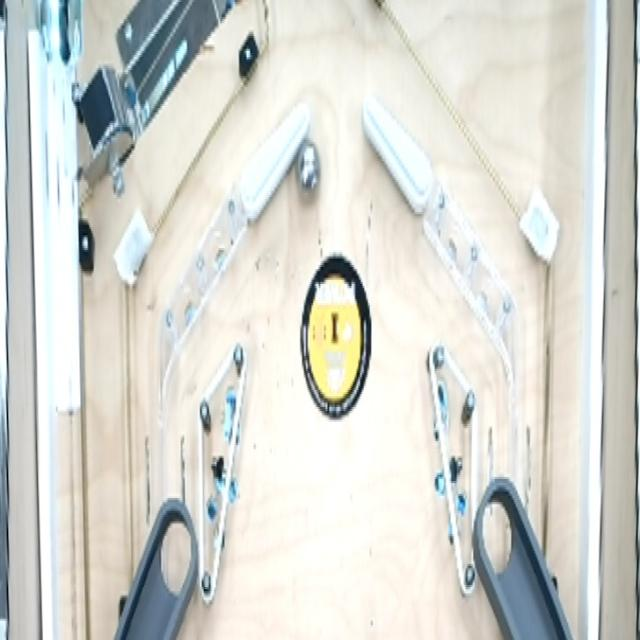ball: (294, 133, 322, 203)
flipper-left: (358, 82, 434, 218)
flipper-right: (236, 90, 314, 226)
